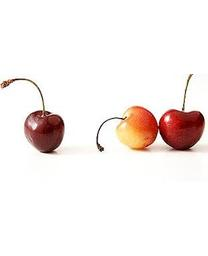cherry: (158, 109, 205, 151), (115, 107, 157, 150), (24, 110, 65, 153)
